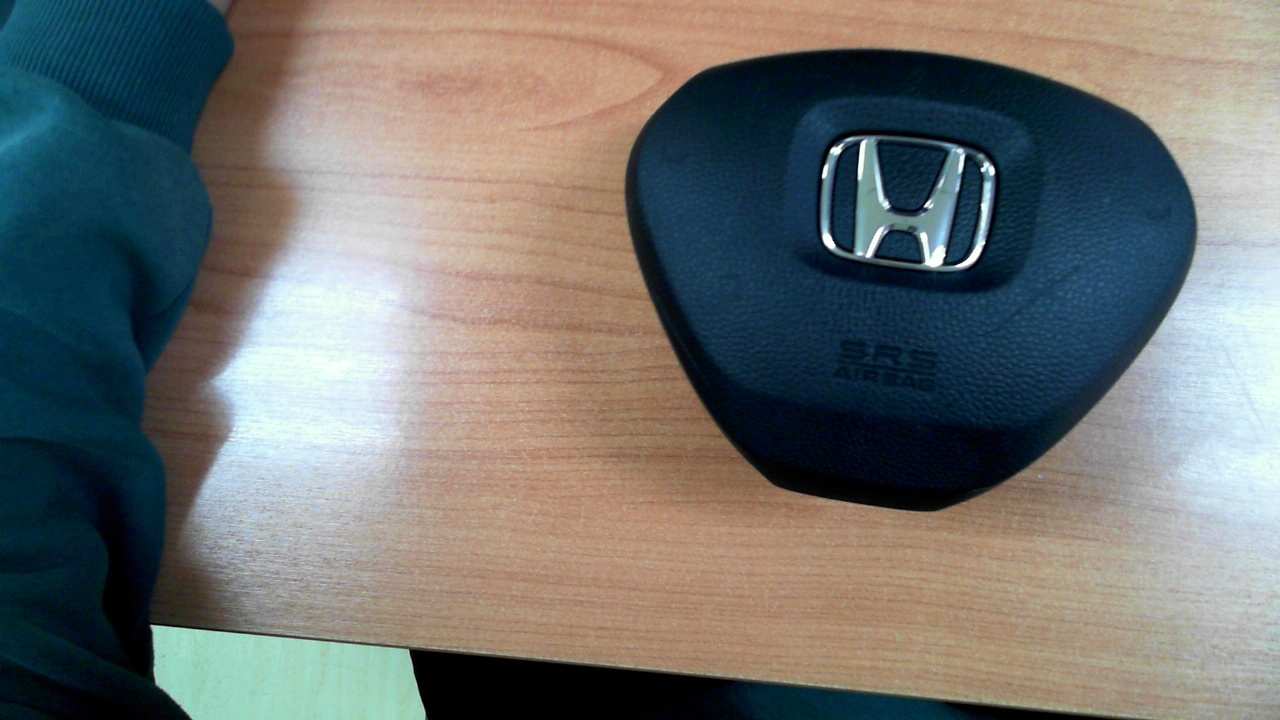Airbag: (623, 48, 1199, 513)
Honda: (820, 134, 996, 272)
